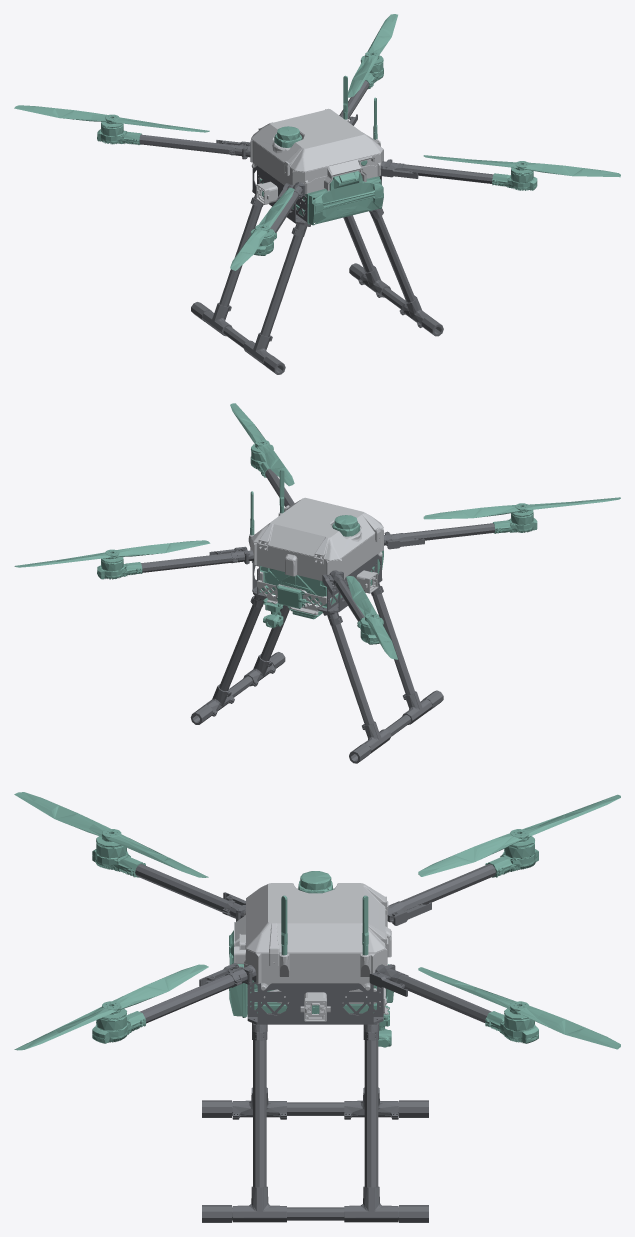
File: quiver.glb
3 views of the same model, one above another, from view 1: azimuth 30°, elevation 25°; view 2: azimuth 150°, elevation 25°; view 3: azimuth 270°, elevation 25° (orthographic). The views are drawn at different scales.
Parts seen in each view (by area): view 1: 2412_enclosure_top_cap, 1310-VerticalTube (×4), 3410_battery, 3122_propeller (×2), 3112_propeller (×2), 2411_main_enclosure, 1412-Arm (×2), 3111_motor (×2), 1340_tube_joint (×2), 1221_battery_wall, 2313_bc_pcb_cover; view 2: 2412_enclosure_top_cap, 1310-VerticalTube (×3), 2411_main_enclosure, 3122_propeller (×2), 3112_propeller (×2), 1412-Arm (×2), 3111_motor (×2), 3410_battery, 1340_tube_joint (×2), 2321_altitude_sensor_mount, 1221_battery_wall, 3290_oa_radar; view 3: 2412_enclosure_top_cap, 1412-Arm (×4), 3111_motor (×4), 3112_propeller (×2), 2411_main_enclosure, 3122_propeller (×2), 1310-VerticalTube (×2), 1221_battery_wall, 1340_tube_joint (×4), 1411_arm_connector (×3), 1320-HorizontalTube (×2), 3410_battery (+1 smaller).
Boxes of the visible parts, box(x1,y1,x2,y2) form: 2412_enclosure_top_cap: box(251, 108, 383, 172); 1310-VerticalTube (×4): box(219, 205, 415, 336); 3410_battery: box(260, 171, 383, 225); 3122_propeller (×2): box(14, 105, 294, 270); 3112_propeller (×2): box(348, 14, 620, 177); 2411_main_enclosure: box(250, 119, 383, 185); 1412-Arm (×2): box(139, 134, 493, 183); 3111_motor (×2): box(97, 121, 537, 190); 1340_tube_joint (×2): box(202, 303, 272, 365); 1221_battery_wall: box(252, 165, 307, 223); 2313_bc_pcb_cover: box(303, 164, 381, 193); 2412_enclosure_top_cap: box(251, 497, 383, 560); 1310-VerticalTube (×3): box(219, 593, 415, 725); 2411_main_enclosure: box(248, 512, 383, 580); 3122_propeller (×2): box(346, 497, 620, 659); 3112_propeller (×2): box(14, 403, 294, 567); 1412-Arm (×2): box(141, 523, 494, 572); 3111_motor (×2): box(97, 510, 537, 579); 3410_battery: box(259, 550, 383, 608); 1340_tube_joint (×2): box(362, 691, 432, 753); 2321_altitude_sensor_mount: box(257, 580, 326, 615); 1221_battery_wall: box(327, 551, 382, 611); 3290_oa_radar: box(276, 585, 309, 608); 2412_enclosure_top_cap: box(246, 883, 385, 953); 1412-Arm (×4): box(135, 864, 496, 1023); 3111_motor (×4): box(92, 836, 538, 1043); 3112_propeller (×2): box(14, 964, 620, 1050); 2411_main_enclosure: box(234, 910, 391, 990); 3122_propeller (×2): box(14, 792, 620, 877); 1310-VerticalTube (×2): box(253, 1025, 378, 1187); 1221_battery_wall: box(247, 981, 383, 1022); 1340_tube_joint (×4): box(232, 1087, 398, 1222); 1411_arm_connector (×3): box(199, 901, 431, 996); 1320-HorizontalTube (×2): box(232, 1102, 398, 1220); 3410_battery: box(229, 930, 376, 1017).
Size of the model in its own units: 1.35 by 0.7413 by 1.34.
